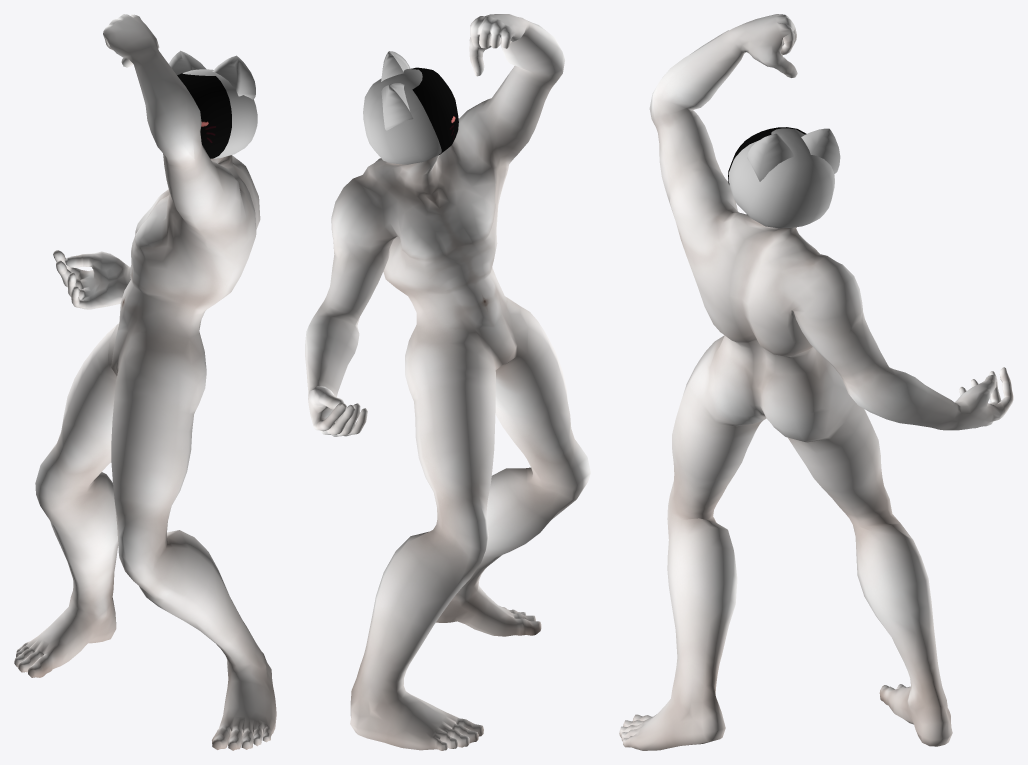
The picture shows the model from 3 angles, left to right: view 1: azimuth 30°, elevation 25°; view 2: azimuth 150°, elevation 25°; view 3: azimuth 270°, elevation 25°; orthographic projection. The views are drawn at different scales.
Visible parts, largest first — view 1: Muscle_Body, Cat_Head, ______?001; view 2: Muscle_Body, Cat_Head, ______?001; view 3: Muscle_Body, Cat_Head.
Part boxes in pixels (left/top/right/bottom): Muscle_Body: left=14, top=14, right=276, bottom=750; Cat_Head: left=169, top=50, right=257, bottom=158; ______?001: left=177, top=73, right=231, bottom=158; Muscle_Body: left=305, top=14, right=590, bottom=750; Cat_Head: left=363, top=51, right=441, bottom=164; ______?001: left=412, top=67, right=458, bottom=155; Muscle_Body: left=619, top=14, right=1013, bottom=750; Cat_Head: left=728, top=128, right=840, bottom=228.
Bounding box in the file's own units: 8.48 × 30.1 × 15.29.
